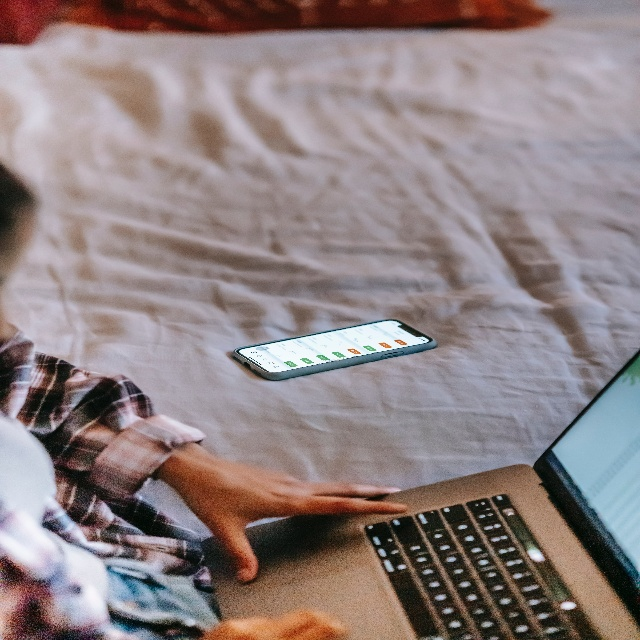Sin_guantes: (176, 449, 408, 584), (200, 609, 351, 640)
